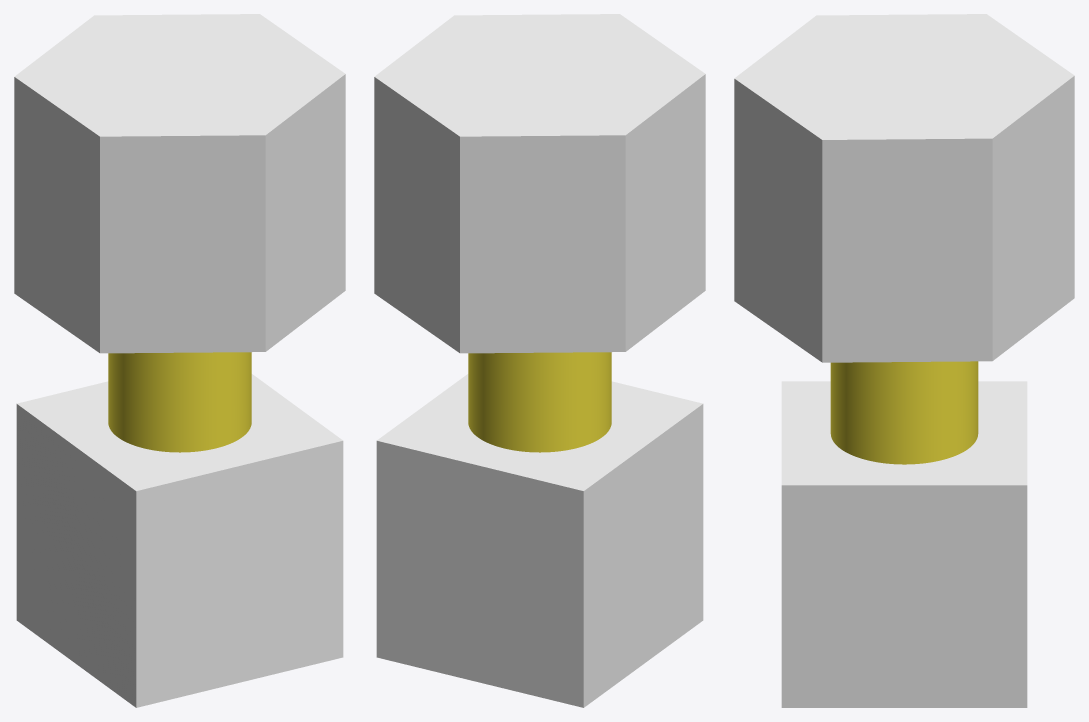
File: try.gltf
3 views of the same model, side by side, from view 1: azimuth 30°, elevation 25°; view 2: azimuth 150°, elevation 25°; view 3: azimuth 270°, elevation 25° (orthographic). The views are drawn at different scales.
Parts seen in each view (by area): view 1: allobj; view 2: allobj; view 3: allobj.
Part boxes in pixels (<box>): allobj: <box>14,14,345,707</box>; allobj: <box>374,14,705,707</box>; allobj: <box>734,14,1074,707</box>.
Bounding box in the file's own units: 60.68 × 130 × 69.27.
